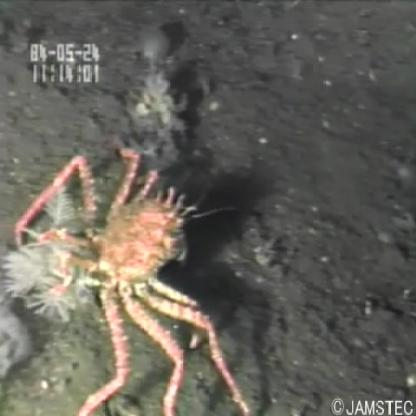Bio: (1, 138, 255, 416)
